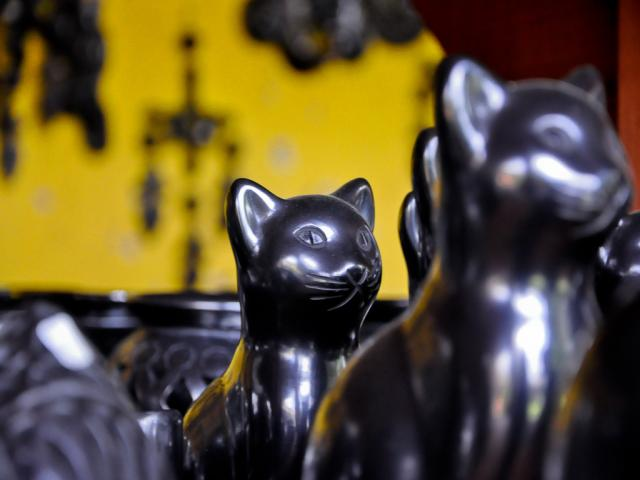Cat: (305, 58, 633, 479), (180, 176, 381, 480)
